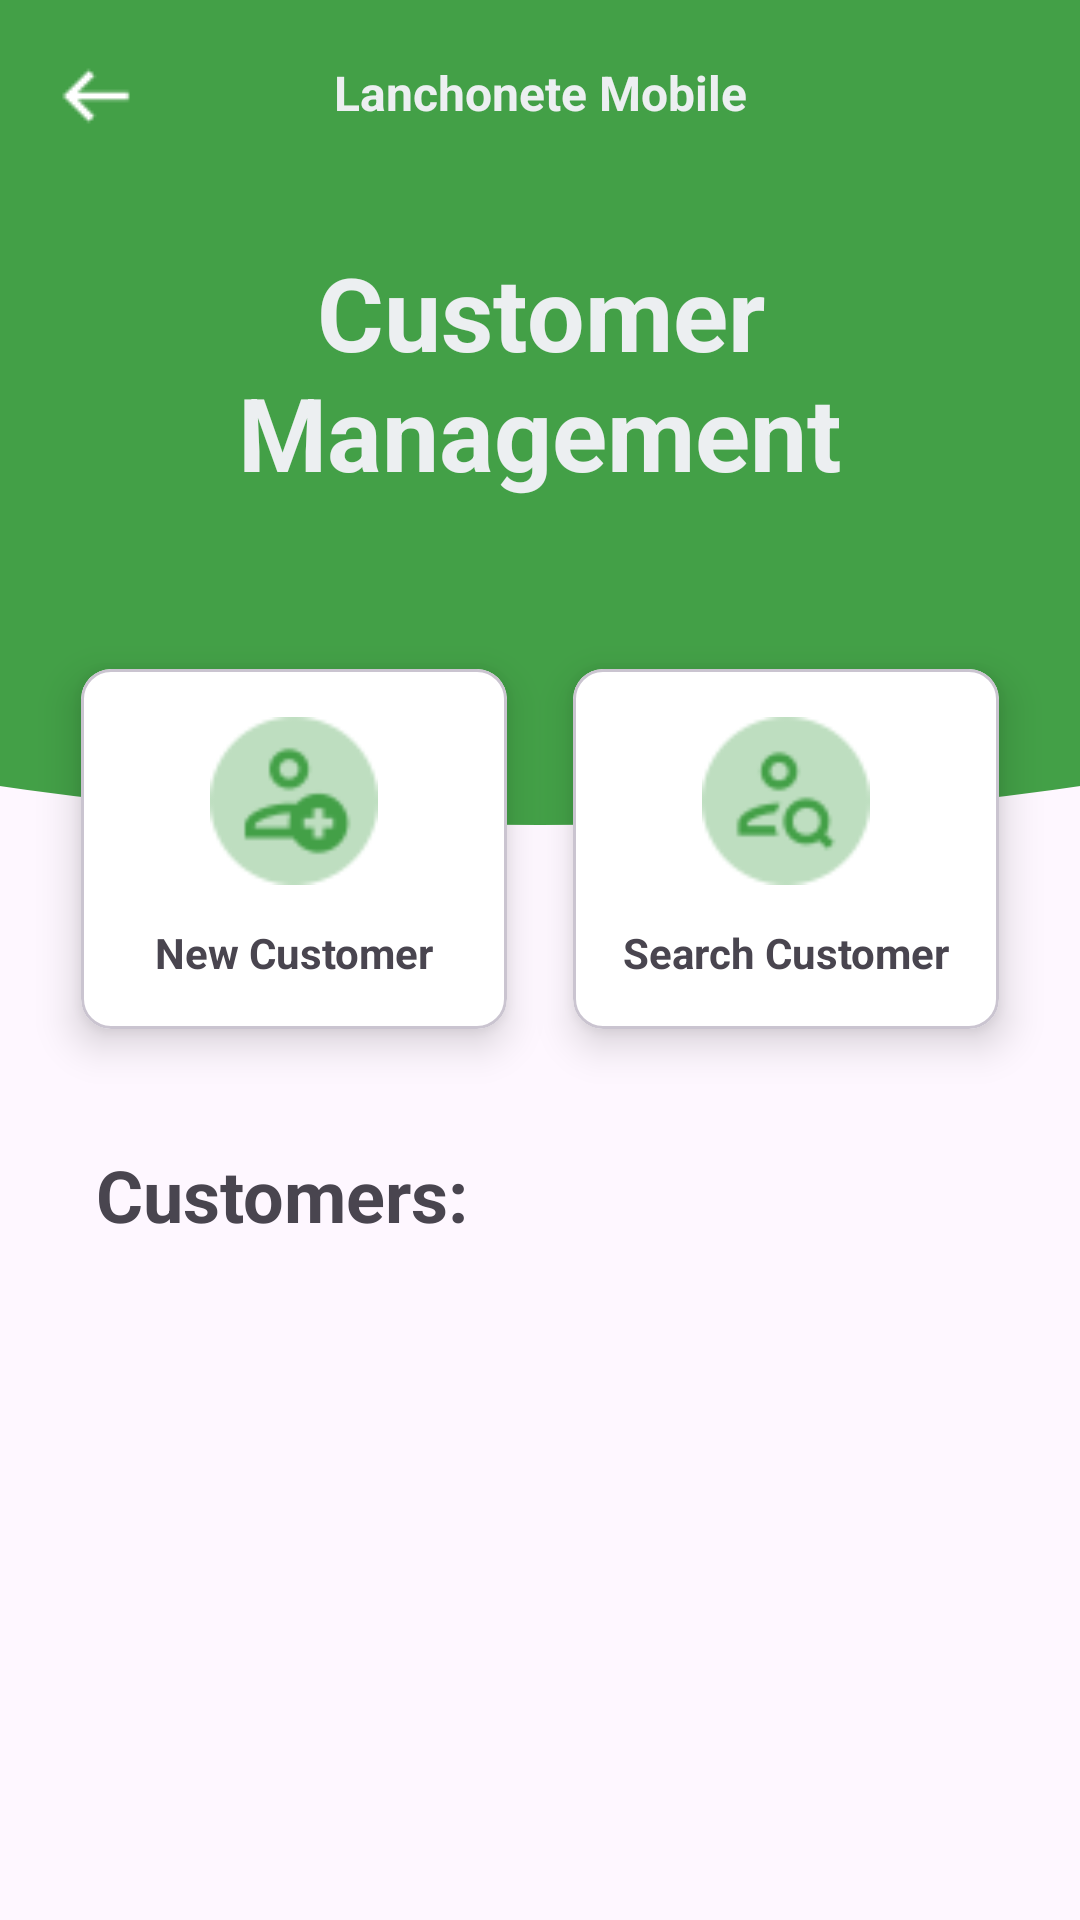

Where icons sit on this 1080px x 1920px app screen, as [left=x1, top=y1, right=x2, bottom=y2]:
Back: [left=63, top=69, right=130, bottom=123]
